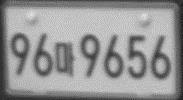5: (126, 35, 148, 79)
6: (149, 34, 173, 80), (102, 32, 124, 78), (32, 33, 54, 77)
9: (9, 31, 30, 76), (79, 34, 100, 77)
마: (54, 41, 76, 76)
